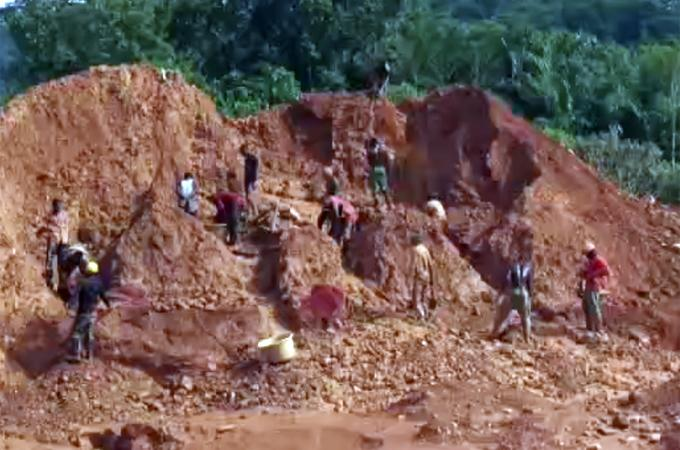MiningTool: (257, 331, 297, 367), (259, 196, 284, 234), (427, 275, 440, 315)
Person: (67, 258, 112, 361), (35, 198, 69, 295), (577, 243, 613, 334), (499, 257, 531, 343), (206, 188, 246, 253), (408, 234, 437, 321), (364, 136, 395, 211), (321, 191, 357, 245), (237, 142, 259, 220), (62, 244, 94, 289), (177, 172, 201, 218), (368, 59, 392, 100), (424, 194, 448, 229)
Structure: (307, 280, 345, 321)
